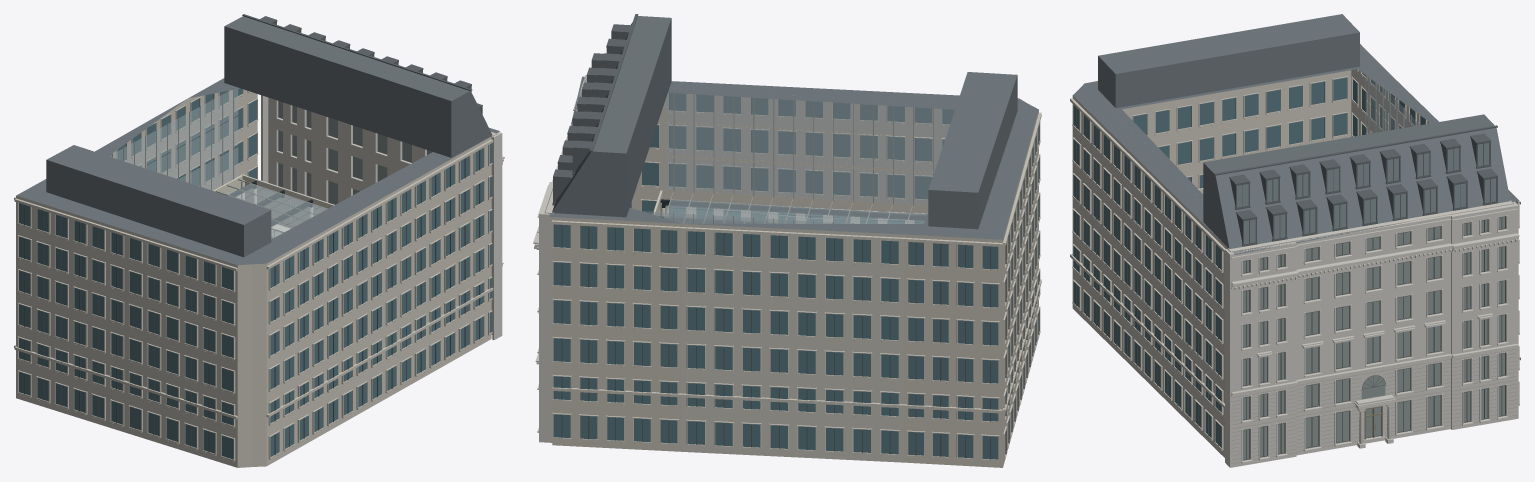
The model's file is ckk-exterior-dfb4006cd556.glb.
3 views of the same model, side by side, from view 1: azimuth 30°, elevation 25°; view 2: azimuth 150°, elevation 25°; view 3: azimuth 270°, elevation 25° (orthographic). The views are drawn at different scales.
Visible parts, largest first — view 1: CKK.001; view 2: CKK.001; view 3: CKK.001.
Boxes of the visible parts, <box> form: CKK.001: <box>14,14,504,467</box>; CKK.001: <box>533,14,1041,467</box>; CKK.001: <box>1070,14,1520,467</box>.
Bounding box in the file's own units: 56.1 × 32.3 × 47.89.
